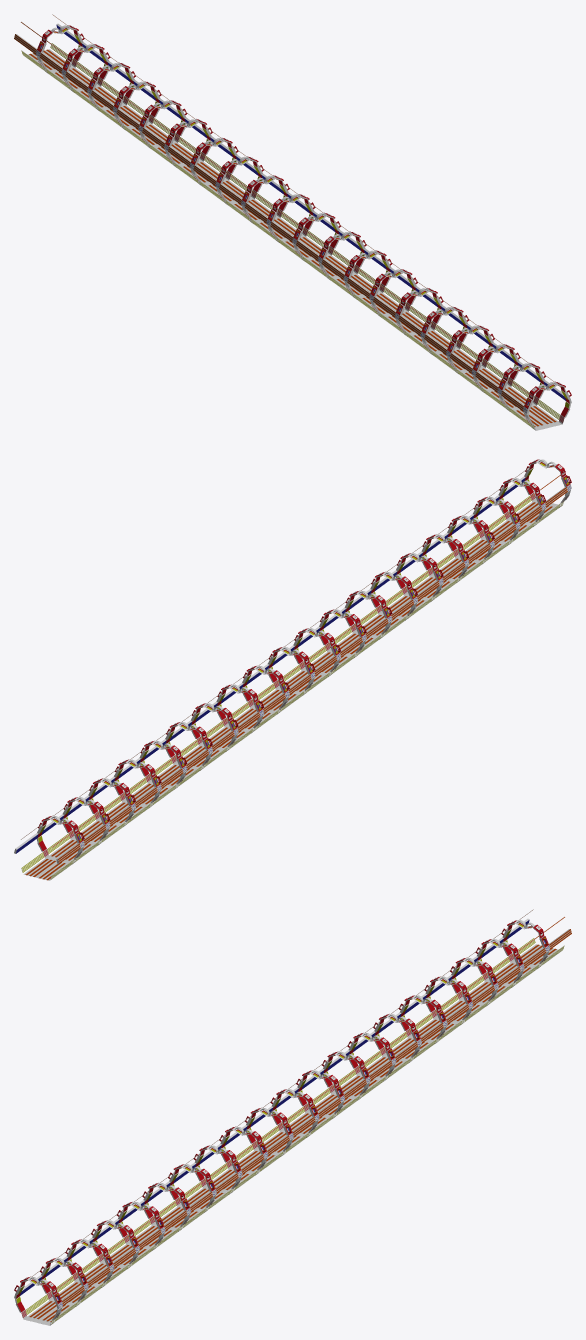
Rendered from SciFIGateArray2.obj.
The picture shows the model from 3 angles, top to bottom: view 1: azimuth 30°, elevation 25°; view 2: azimuth 150°, elevation 25°; view 3: azimuth 330°, elevation 25°; orthographic projection.
Parts seen in each view (by area): view 1: Cube; view 2: Cube; view 3: Cube.
Boxes of the visible parts, x1=… form: Cube: x1=14, y1=14, x2=571, y2=430; Cube: x1=14, y1=459, x2=571, y2=880; Cube: x1=14, y1=909, x2=571, y2=1325.
Size of the model in its own units: 129 by 112 by 2446.
